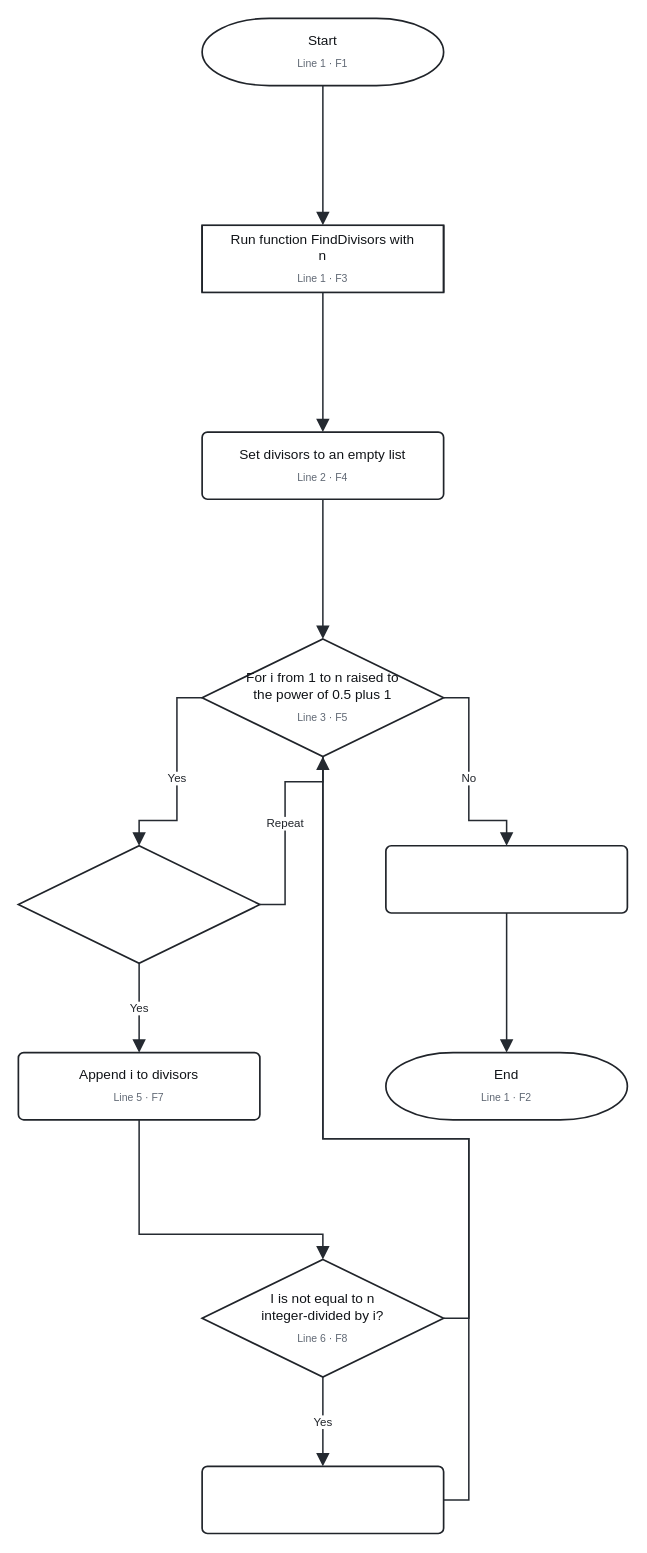
The diagram is 647 pixels wide and 1553 high, and some of its shapes have lost their labels. The shapes that lost their labels are listed below. From the top down, each one's centre as x and y in pixels, then its label:
At (506,878): "Return divisors Line 11 · F10".
At (138,904): "N modulo i is equal to 0? Line 4 · F6".
At (322,1499): "Append (n integer-divided by i) to divisors Line 7 · F9".
